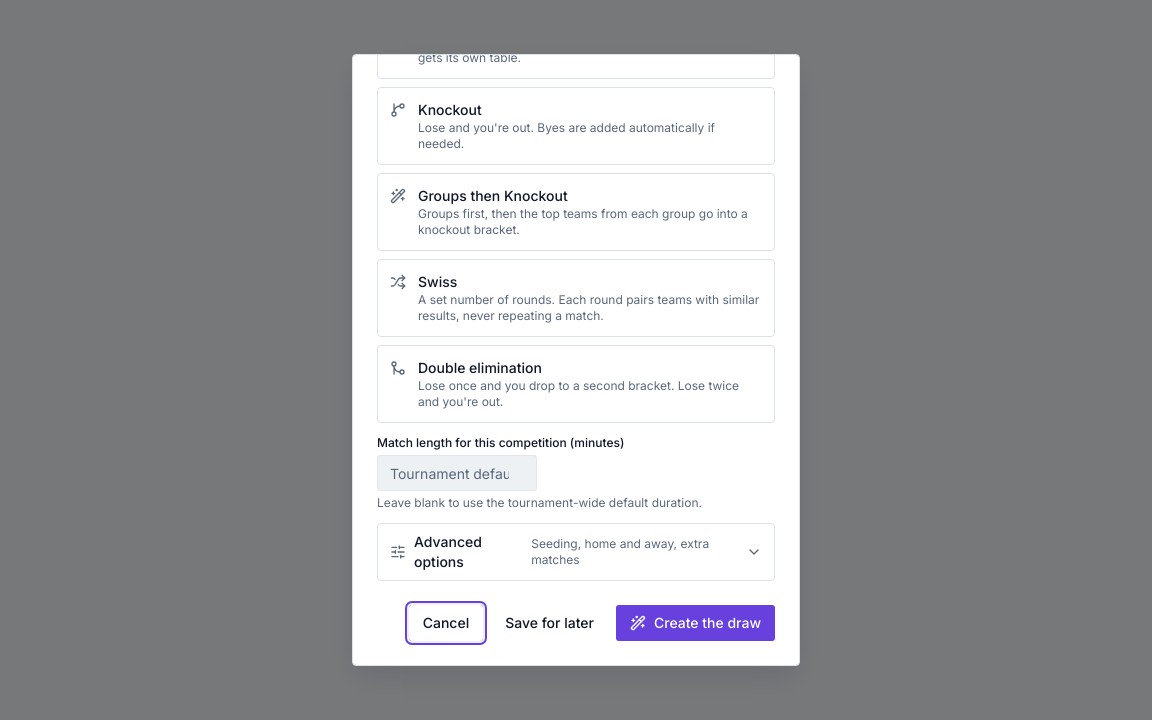
Test case: CompetitionFormatWizard › keeps the main path to the format cards; secondary knobs sit behind Advanced options
(page scrolled)
Expected: the text "Seeding method" is not shown
Click the button with test id "advanced-options" at (576, 552), box [378,524,774,580]
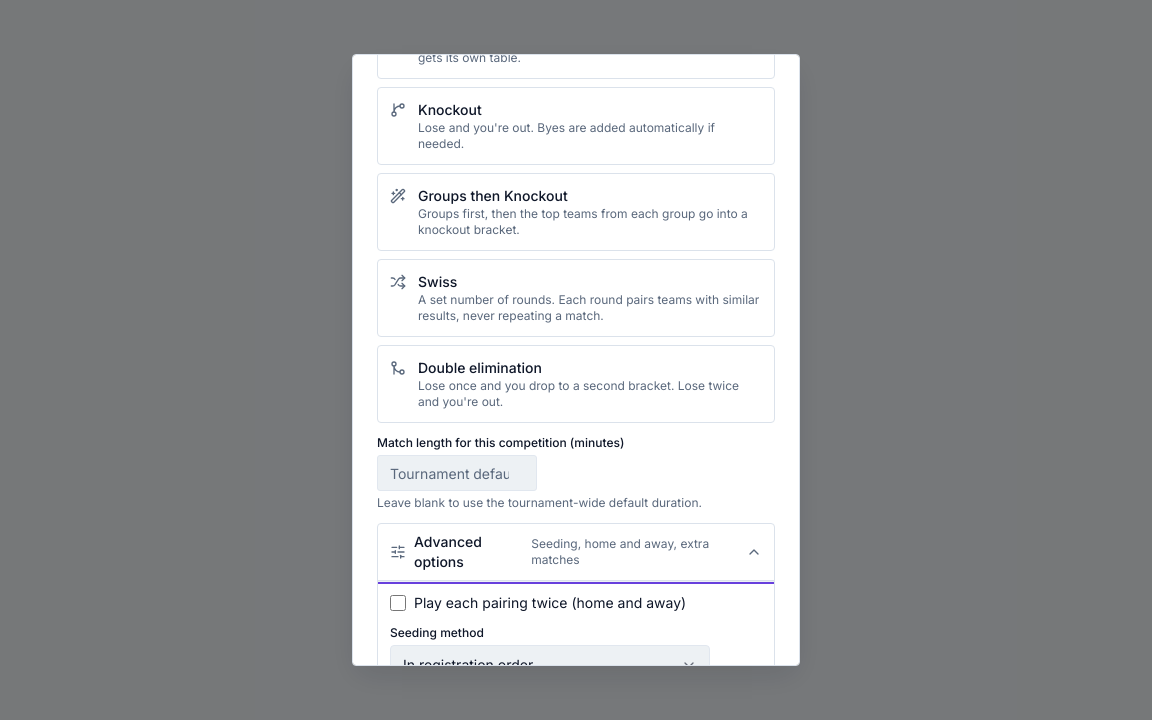
Expected: the checkbox with test id "two-legs" is shown, [390,595,406,611]
Expected: the text "Seeding method" is shown, [390,625,484,640]
